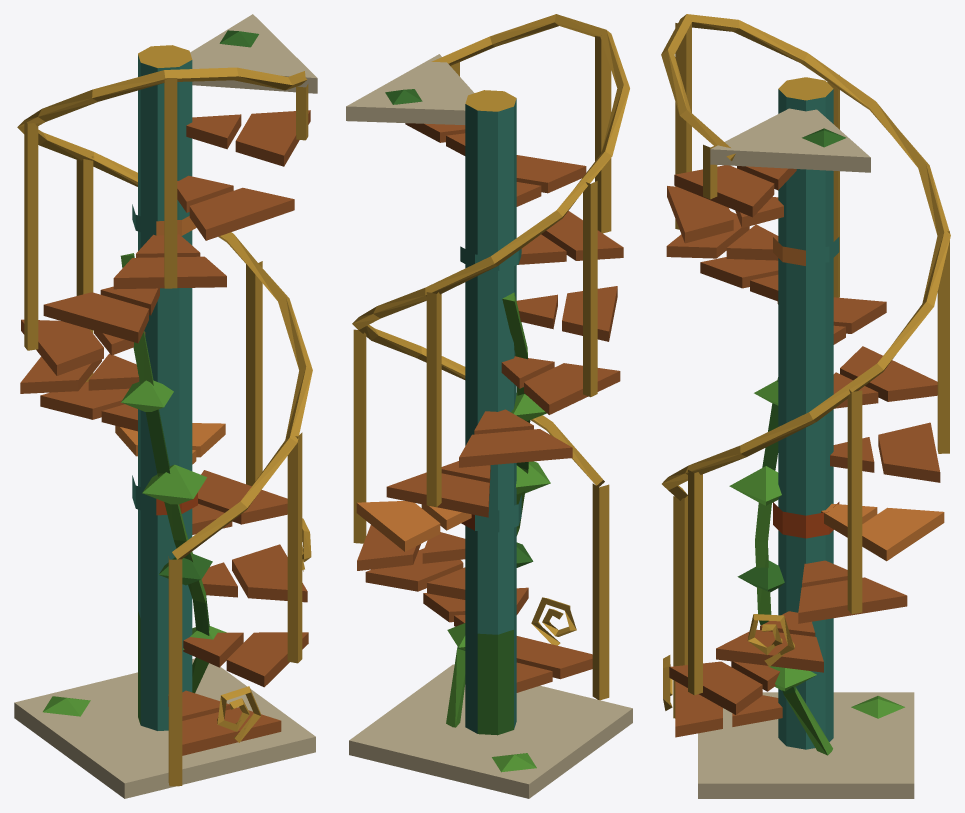
File: external-spiral-stair-e98a0a.glb
3 views of the same model, side by side, from view 1: azimuth 30°, elevation 25°; view 2: azimuth 150°, elevation 25°; view 3: azimuth 270°, elevation 25° (orthographic). The views are drawn at different scales.
Visible parts, largest first — view 1: spiral-stair; view 2: spiral-stair; view 3: spiral-stair.
Part boxes in pixels (x1,y1,x2,y2): spiral-stair: (14, 14, 317, 798); spiral-stair: (346, 14, 632, 798); spiral-stair: (661, 14, 950, 798).
Size of the model in its own units: 1.21 by 3.26 by 1.21.
